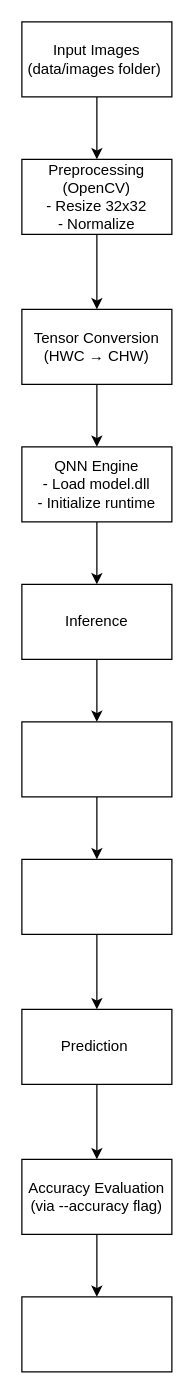
The diagram is 194 pixels wide and 1394 high, and some of its shapes have lost their labels. Each missing label, with the centre of its shape:
"Output Tensor" goes at (96,759).
"Performance Report report.txt" goes at (96,1334).
"Postprocessing (Argmax)" goes at (96,896).
